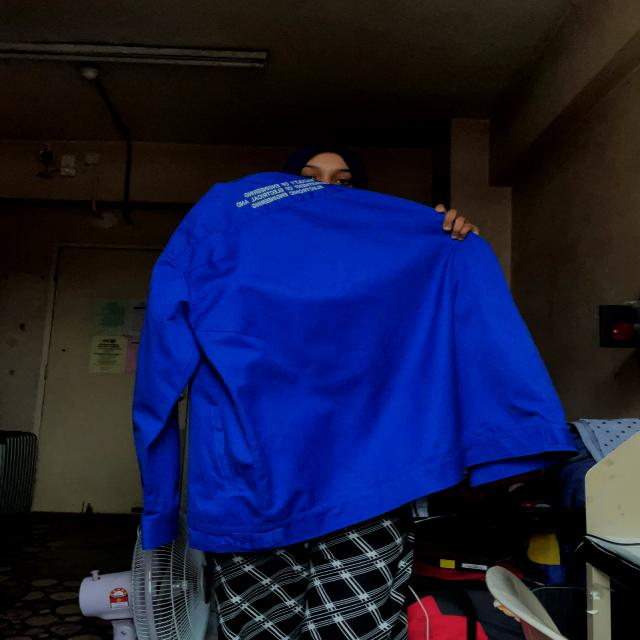person_without_labcoat: (134, 146, 575, 640)
